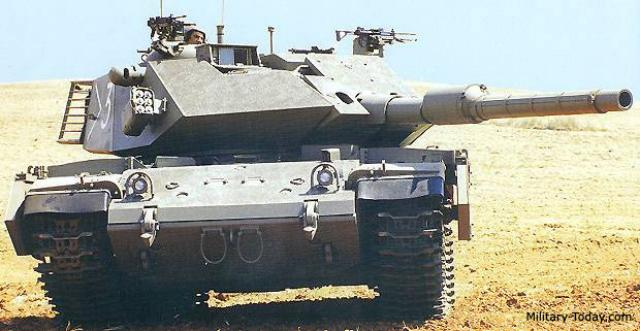other: (187, 24, 206, 48)
tank: (18, 18, 470, 321)
